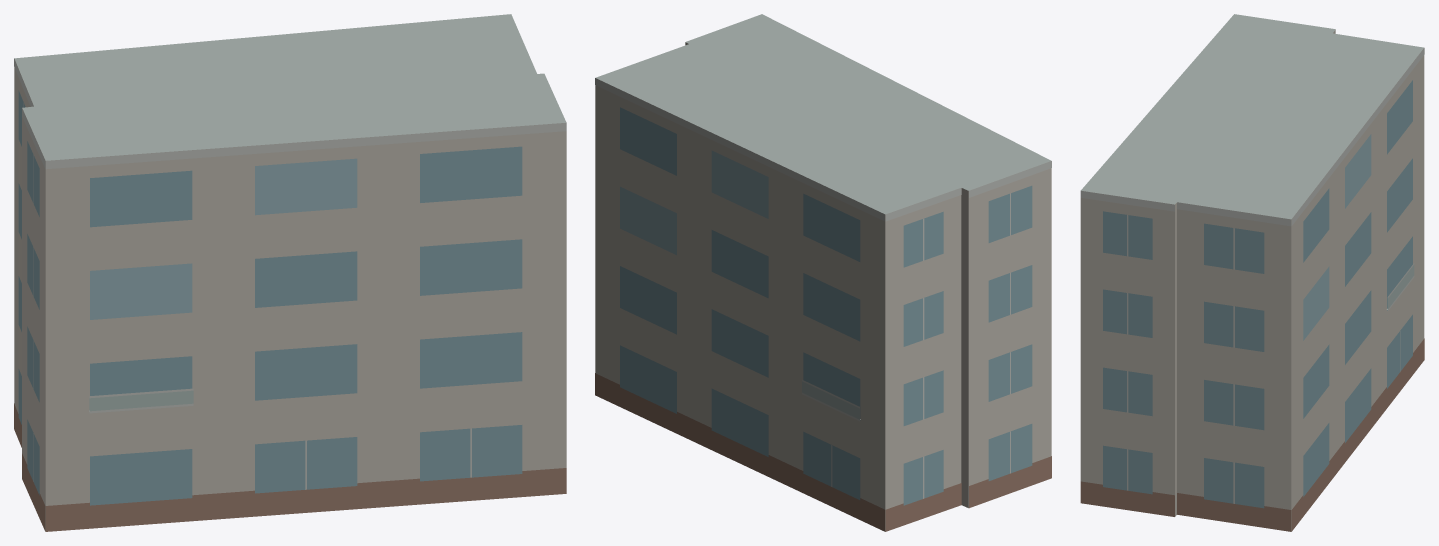
File: survey-upis-32869531.glb
The picture shows the model from 3 angles, left to right: view 1: azimuth 30°, elevation 25°; view 2: azimuth 150°, elevation 25°; view 3: azimuth 270°, elevation 25°; orthographic projection. The views are drawn at different scales.
Parts seen in each view (by area): view 1: survey-upis-32869531.tmp; view 2: survey-upis-32869531.tmp; view 3: survey-upis-32869531.tmp.
Boxes of the visible parts, x1,y1,x2,y2 form: survey-upis-32869531.tmp: (14,14,566,531); survey-upis-32869531.tmp: (595,14,1051,531); survey-upis-32869531.tmp: (1080,14,1424,531).
Size of the model in its own units: 15.16 by 10.75 by 10.73.
